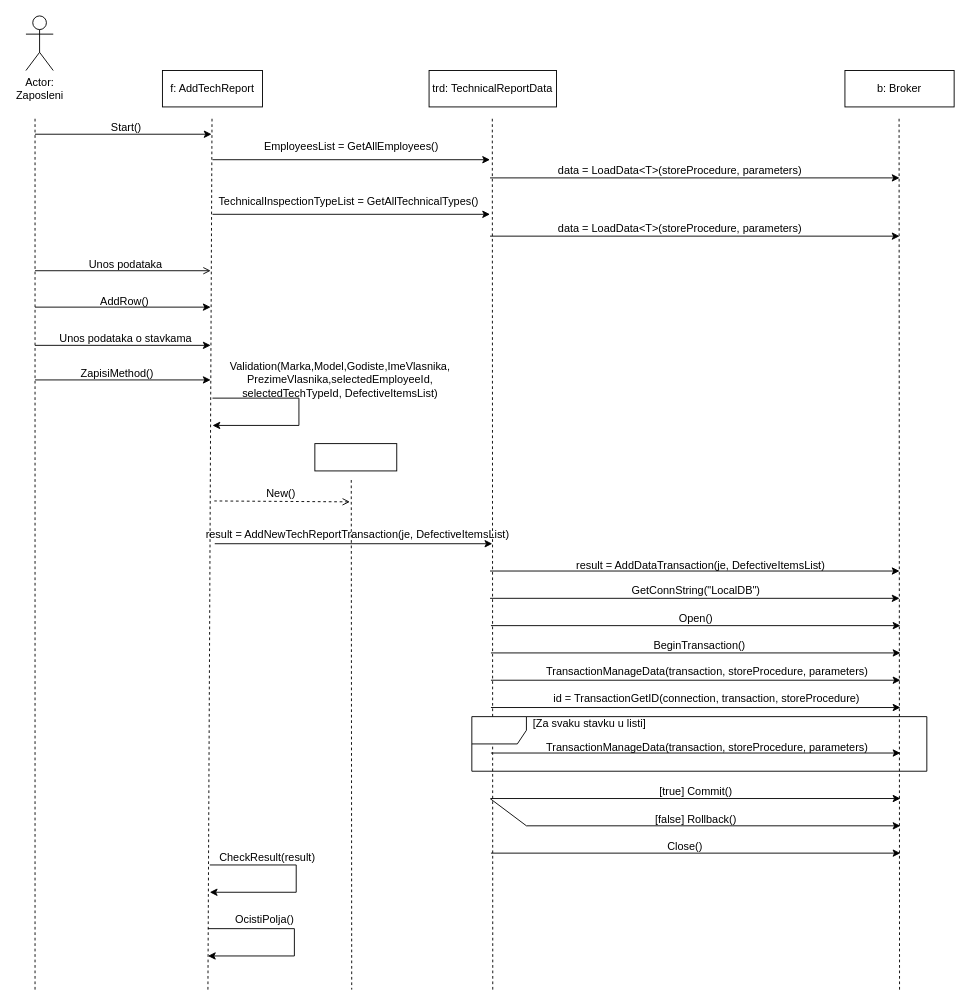
The diagram is 970 pixels wide and 1006 high, and some of its shapes have lost their labels. The shapes that lost their labels are listed below. From the top down, each one's box as (x1, y1, x2, y2) in pixels, then its label:
(314, 443, 397, 471): je: JsonElement
(471, 716, 927, 771): loop
